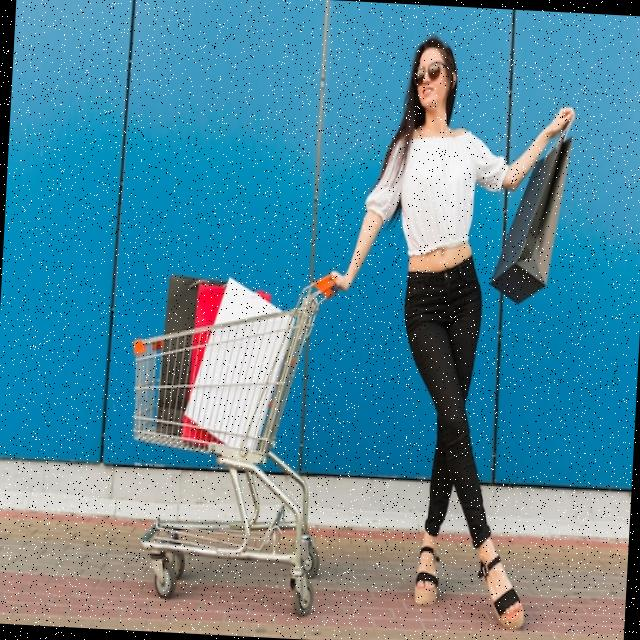Person: (314, 30, 580, 632)
